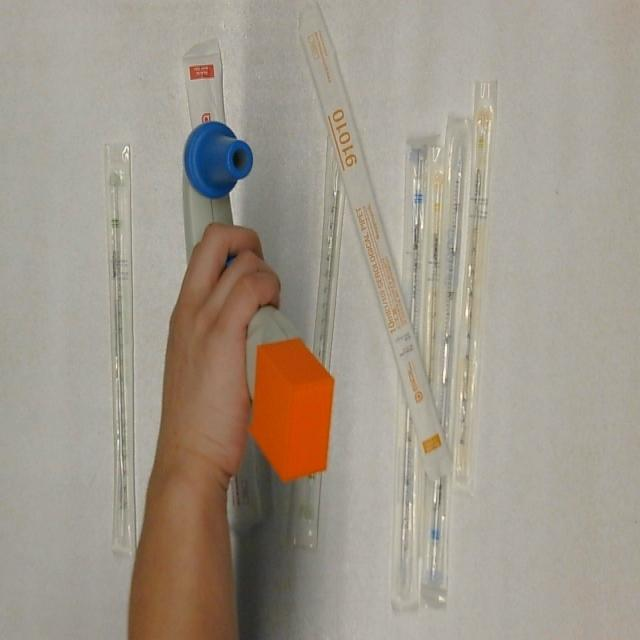Pipette Controller: (182, 121, 334, 481)
Serelogical Pipet 1 mL - Sealed: (452, 75, 501, 496), (422, 140, 451, 398)
Serelogical Pipet 10 mL - Sealed: (298, 0, 457, 482)
Serelogical Pipet 2 mL - Sealed: (99, 139, 143, 566)
Serelogical Pipet 25 mL - Sealed: (184, 32, 231, 132)
Serelogical Pipet 5 mL - Sealed: (422, 113, 477, 592), (388, 132, 432, 616)
